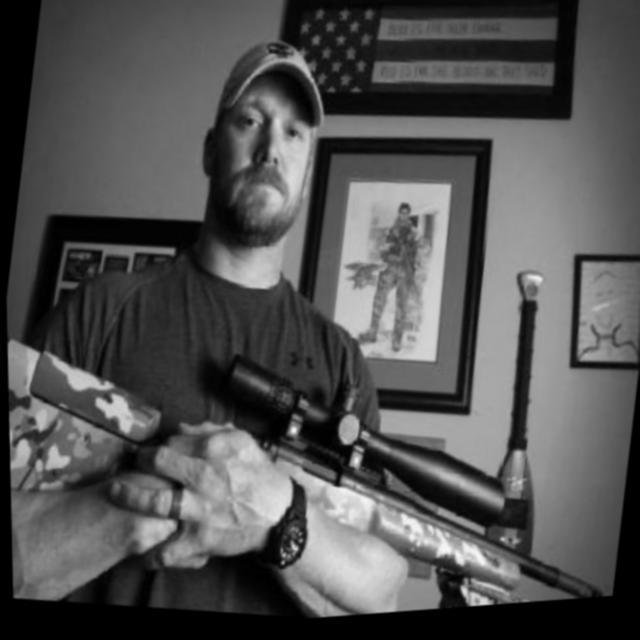weapon: (6, 288, 634, 640)
